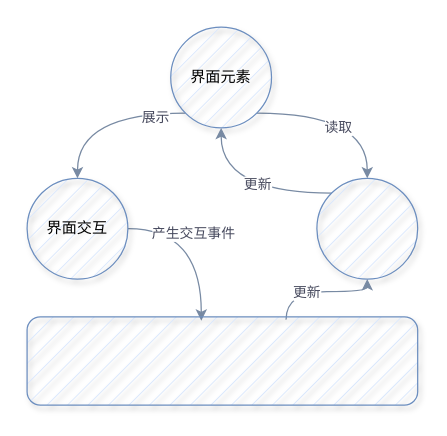
This 447x436 diagram has some shape labels left out. Here are the shapes that lost their labels. From the top down, the centre of each, then its label:
At [368,230]: "界面状态".
At [223,362]: "应用逻辑层".
